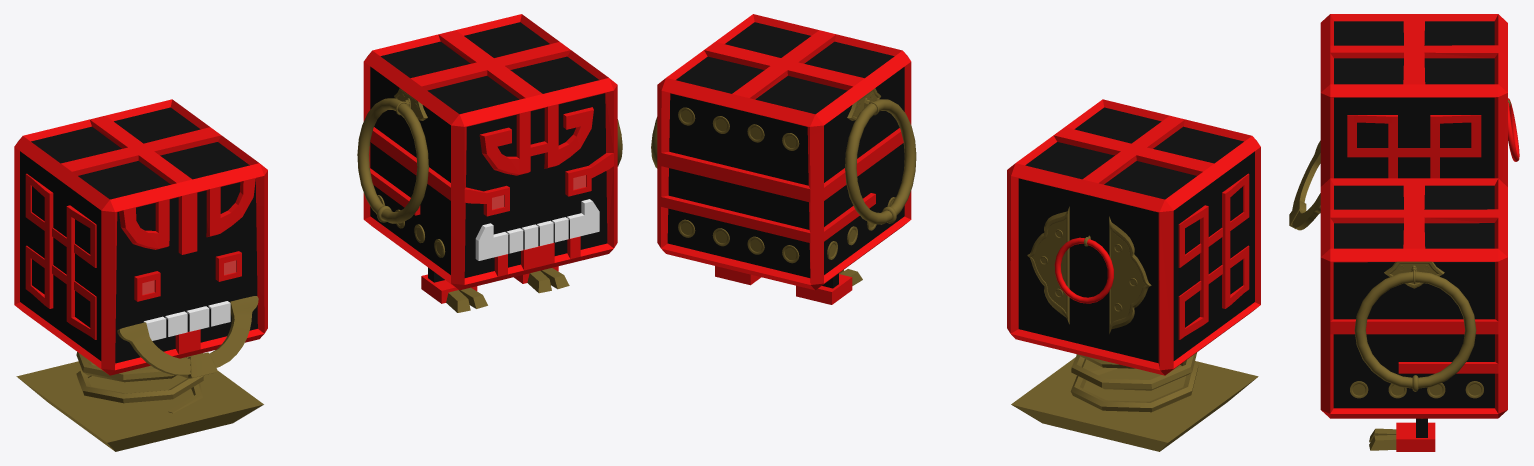
The model's file is Box_Monster 1.fbx.
The picture shows the model from 3 angles, left to right: view 1: azimuth 30°, elevation 25°; view 2: azimuth 150°, elevation 25°; view 3: azimuth 270°, elevation 25°; orthographic projection. The views are drawn at different scales.
Visible parts, largest first — view 1: Box009, Box001; view 2: Box009, Box001; view 3: Box001, Box009.
Part boxes in pixels (bbox=[...]): Box009: bbox=[14, 99, 267, 451]; Box001: bbox=[357, 14, 622, 312]; Box009: bbox=[1007, 99, 1260, 451]; Box001: bbox=[651, 14, 916, 304]; Box001: bbox=[1320, 178, 1507, 451]; Box009: bbox=[1289, 14, 1519, 230].
Bounding box in the file's own units: 347 × 161 × 132.
